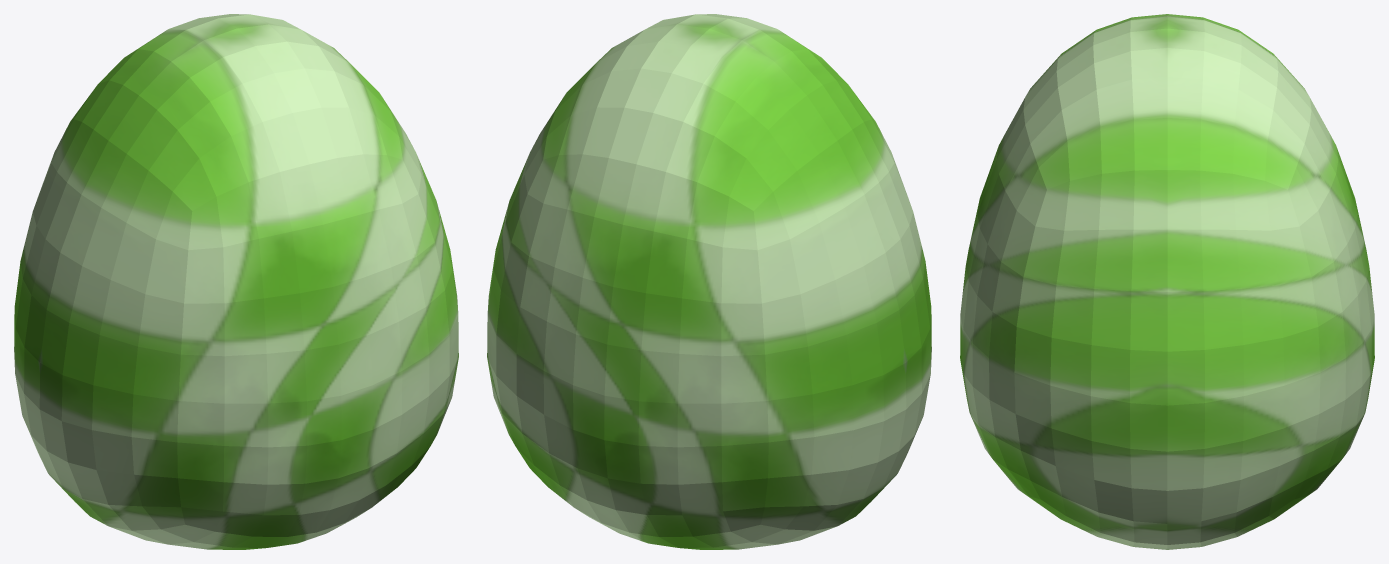
Rendered from Egg_Green.fbx.
The picture shows the model from 3 angles, left to right: view 1: azimuth 30°, elevation 25°; view 2: azimuth 150°, elevation 25°; view 3: azimuth 270°, elevation 25°; orthographic projection.
Visible parts, largest first — view 1: Egg; view 2: Egg; view 3: Egg.
Boxes of the visible parts, x1,y1,x2,y2 form: Egg: (14, 14, 458, 549); Egg: (487, 14, 931, 549); Egg: (960, 14, 1374, 549).
Size of the model in its own units: 210 by 256 by 195.
Materials: 1 (1 with a texture image).
